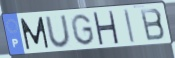B: (139, 7, 167, 42)
G: (70, 13, 97, 47)
H: (91, 11, 120, 46)
I: (123, 8, 137, 45)
M: (19, 15, 51, 51)
U: (44, 14, 73, 49)
